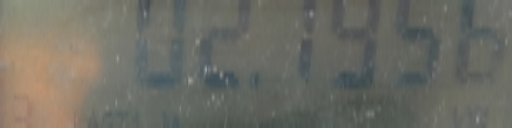0: (122, 1, 196, 93)
1: (289, 1, 324, 99)
2: (198, 1, 249, 87)
5: (390, 1, 446, 99)
6: (451, 1, 509, 95)
9: (329, 1, 380, 91)
d: (249, 66, 264, 89)
